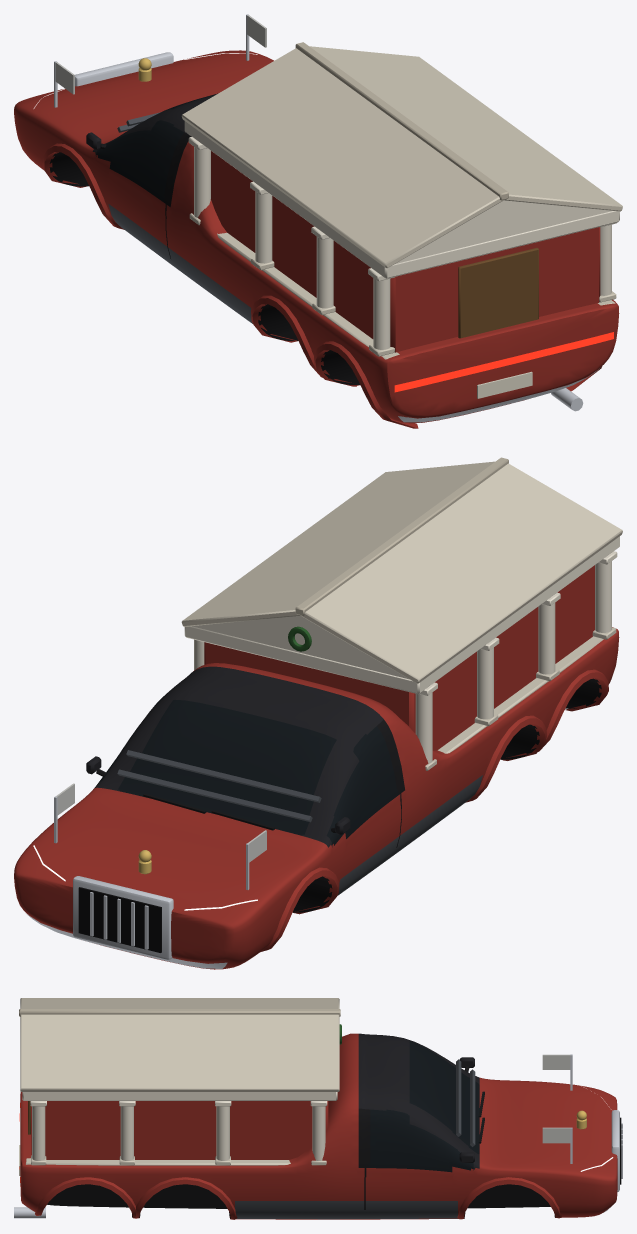
Rendered from car_mausoleum.glb.
The picture shows the model from 3 angles, top to bottom: view 1: azimuth 30°, elevation 25°; view 2: azimuth 150°, elevation 25°; view 3: azimuth 270°, elevation 25°; orthographic projection. The views are drawn at different scales.
Parts seen in each view (by area): view 1: parts, body, lips, strip2, strip3; view 2: parts, body, lips, strip1; view 3: parts, body, lips.
Part boxes in pixels (bbox=[...]): parts: bbox=[54, 14, 622, 411]; body: bbox=[14, 50, 619, 423]; lips: bbox=[42, 143, 602, 428]; strip2: bbox=[394, 332, 613, 392]; strip3: bbox=[398, 368, 599, 422]; parts: bbox=[54, 457, 622, 959]; body: bbox=[14, 627, 619, 969]; lips: bbox=[261, 669, 608, 951]; strip1: bbox=[27, 914, 227, 968]; parts: bbox=[14, 998, 622, 1218]; body: bbox=[20, 1033, 617, 1219]; lips: bbox=[35, 1177, 561, 1219].
Bounding box in the file's own units: 2.25 × 1.95 × 5.91.
